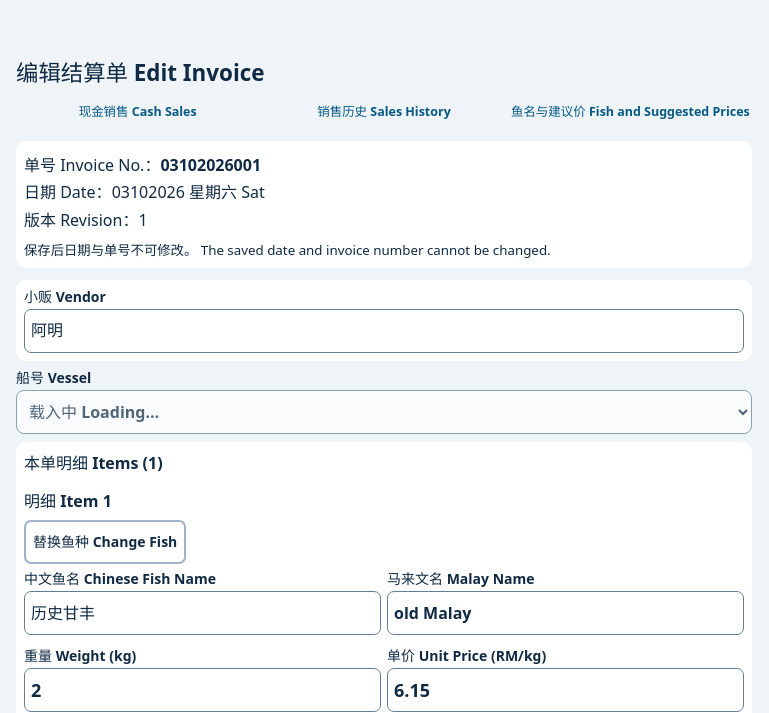
Test case: Retail 30-day editing › renders inactive historical fish but never offers an inactive replacement
Expected: the field named "中文鱼名 Chinese Fish Name 1" holds "历史甘丰", [24, 591, 381, 635]
Click the button with aria-label "替换鱼种 Change Fish 1" at (105, 542), box [24, 520, 186, 564]
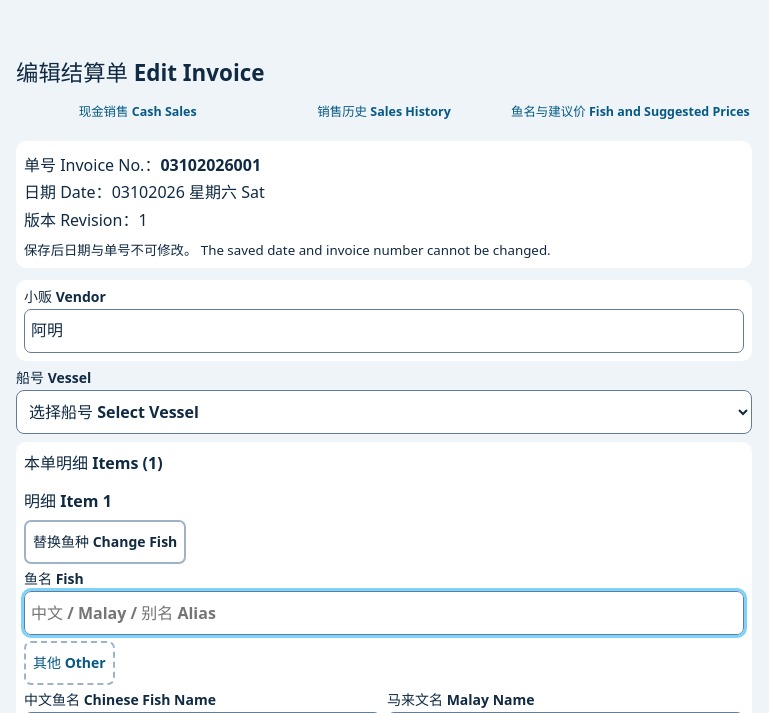
Type "马鱼" into the dropdown labelled "鱼名 Fish" at (384, 613), box [24, 591, 744, 635]
(page scrolled)
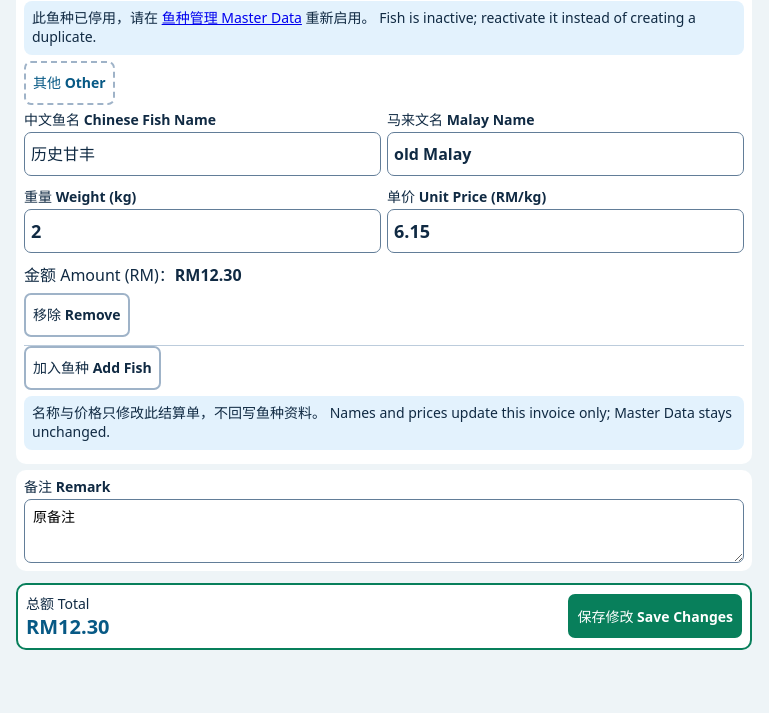
Result: the text "此鱼种已停用" is shown at [32, 8, 162, 27]
Click the button "保存修改 Save Changes" at (655, 616), box [568, 594, 742, 638]
(page scrolled)
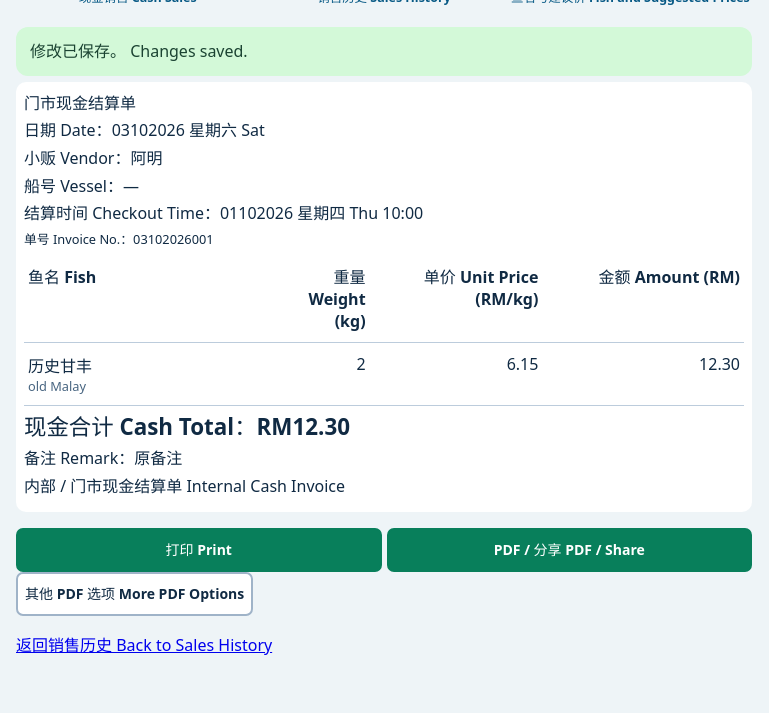
Result: the text "修改已保存。 Changes saved." is shown at [16, 27, 752, 76]
